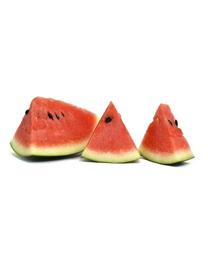watermelon: (12, 94, 194, 166)
